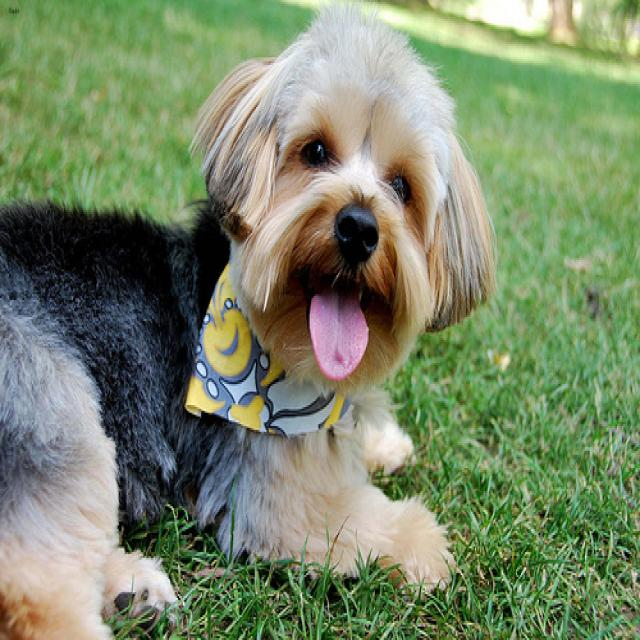dog-yorkshire_terrier: (1, 2, 504, 636)
